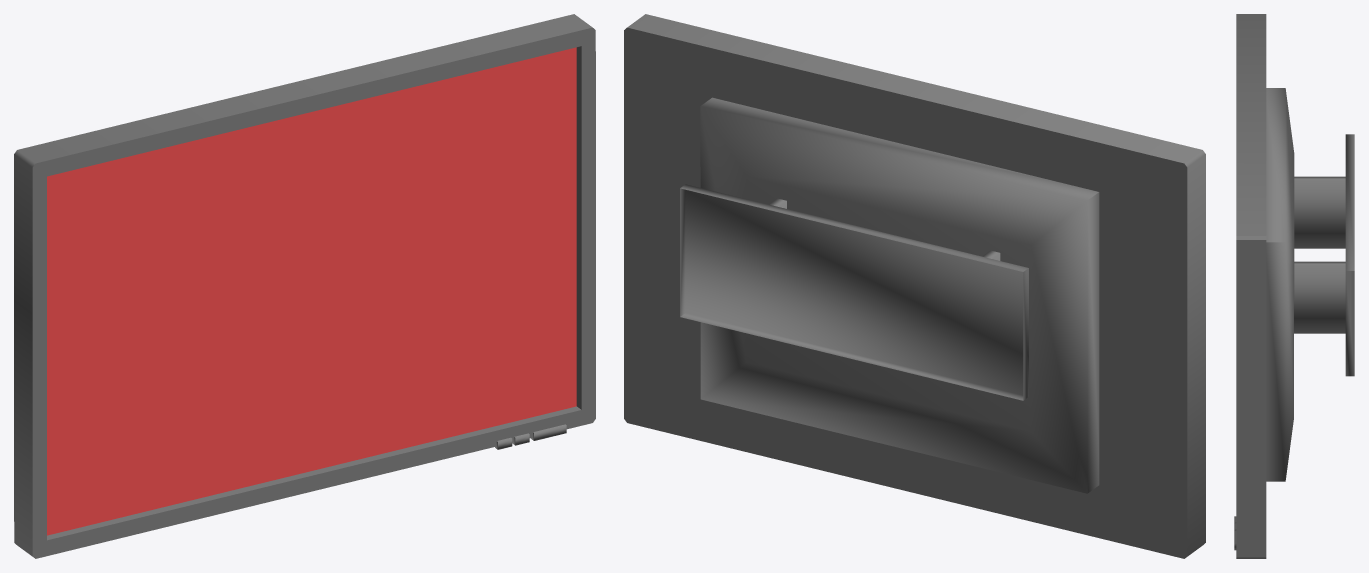
Rendered from SM_Monitor.fbx.
3 renders of one model, left to right at view 1: azimuth 30°, elevation 25°; view 2: azimuth 150°, elevation 25°; view 3: azimuth 270°, elevation 25°, orthographic. The views are drawn at different scales.
Visible parts, largest first — view 1: Meshesmonitor21; view 2: Meshesmonitor21; view 3: Meshesmonitor21.
Boxes of the visible parts, bbox=[...] form: Meshesmonitor21: bbox=[14, 14, 595, 558]; Meshesmonitor21: bbox=[624, 14, 1205, 558]; Meshesmonitor21: bbox=[1234, 14, 1354, 558].
Bounding box in the file's own units: 117 × 78.97 × 26.56.
